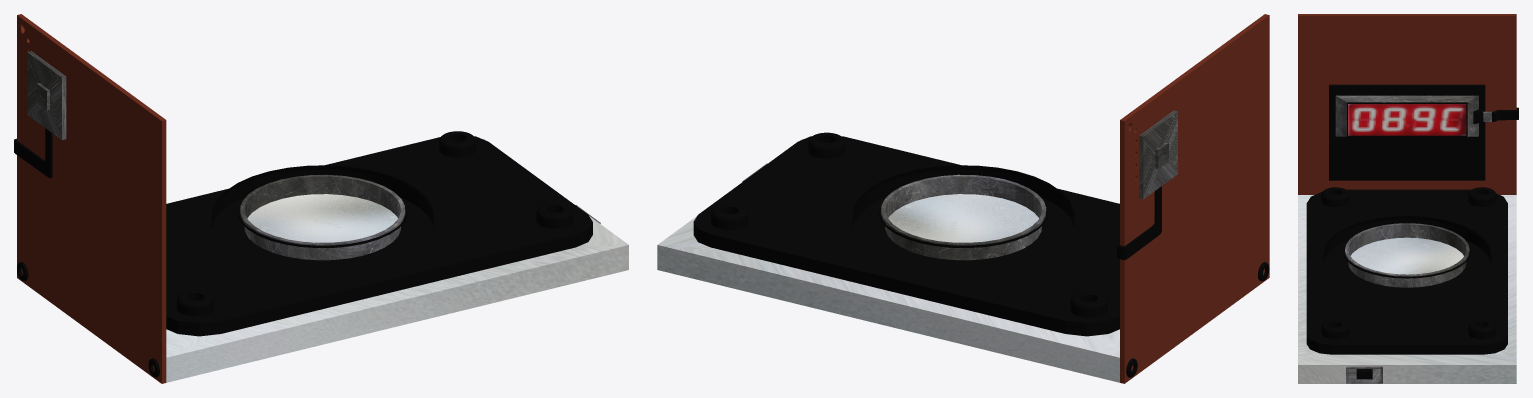
File: PMM_28.fbx
The picture shows the model from 3 angles, left to right: view 1: azimuth 30°, elevation 25°; view 2: azimuth 150°, elevation 25°; view 3: azimuth 270°, elevation 25°; orthographic projection. The views are drawn at different scales.
Visible parts, largest first — view 1: Cube.001, Cube, Cube.003, Cylinder.001, Cylinder.002, Cylinder, Cube.002; view 2: Cube.001, Cube, Cube.003, Cube.002, Cylinder.001, Cylinder.003, Cylinder; view 3: Cube.001, Cube, Cube.002, Cylinder.001, Cylinder, Cylinder.003, Cylinder.002.
Boxes of the visible parts, bbox=[...] form: Cube.001: bbox=[166, 136, 628, 382]; Cube: bbox=[17, 14, 166, 383]; Cube.003: bbox=[27, 51, 66, 139]; Cylinder.001: bbox=[536, 202, 573, 228]; Cylinder.002: bbox=[176, 290, 213, 316]; Cylinder: bbox=[439, 131, 475, 157]; Cube.002: bbox=[14, 128, 52, 177]; Cube.001: bbox=[657, 136, 1119, 382]; Cube: bbox=[1120, 14, 1269, 383]; Cube.003: bbox=[1139, 110, 1177, 199]; Cube.002: bbox=[1117, 186, 1161, 260]; Cylinder.001: bbox=[808, 132, 845, 158]; Cylinder.003: bbox=[1070, 291, 1107, 317]; Cylinder: bbox=[711, 204, 747, 229]; Cube.001: bbox=[1298, 189, 1516, 383]; Cube: bbox=[1298, 14, 1516, 194]; Cube.002: bbox=[1329, 84, 1518, 180]; Cylinder.001: bbox=[1321, 319, 1349, 339]; Cylinder: bbox=[1468, 319, 1496, 339]; Cylinder.003: bbox=[1468, 187, 1496, 206]; Cylinder.002: bbox=[1321, 187, 1349, 206].
Bounding box in the file's own units: 381 × 200 × 202.
